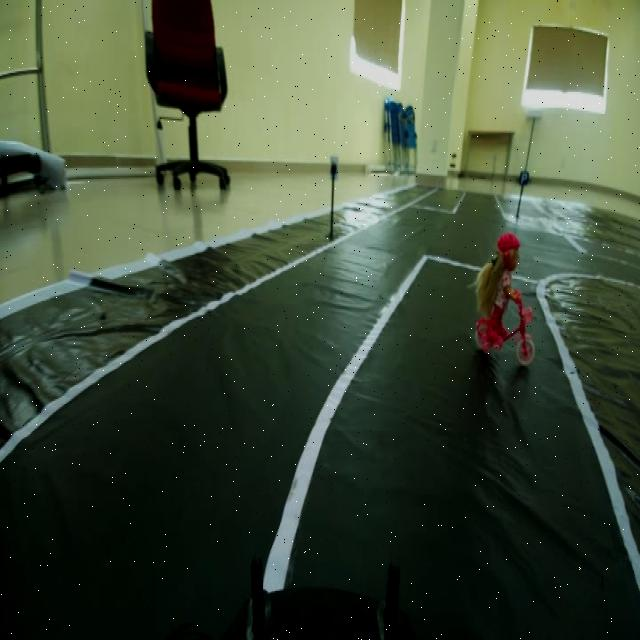pedestrian: (474, 231, 543, 366)
